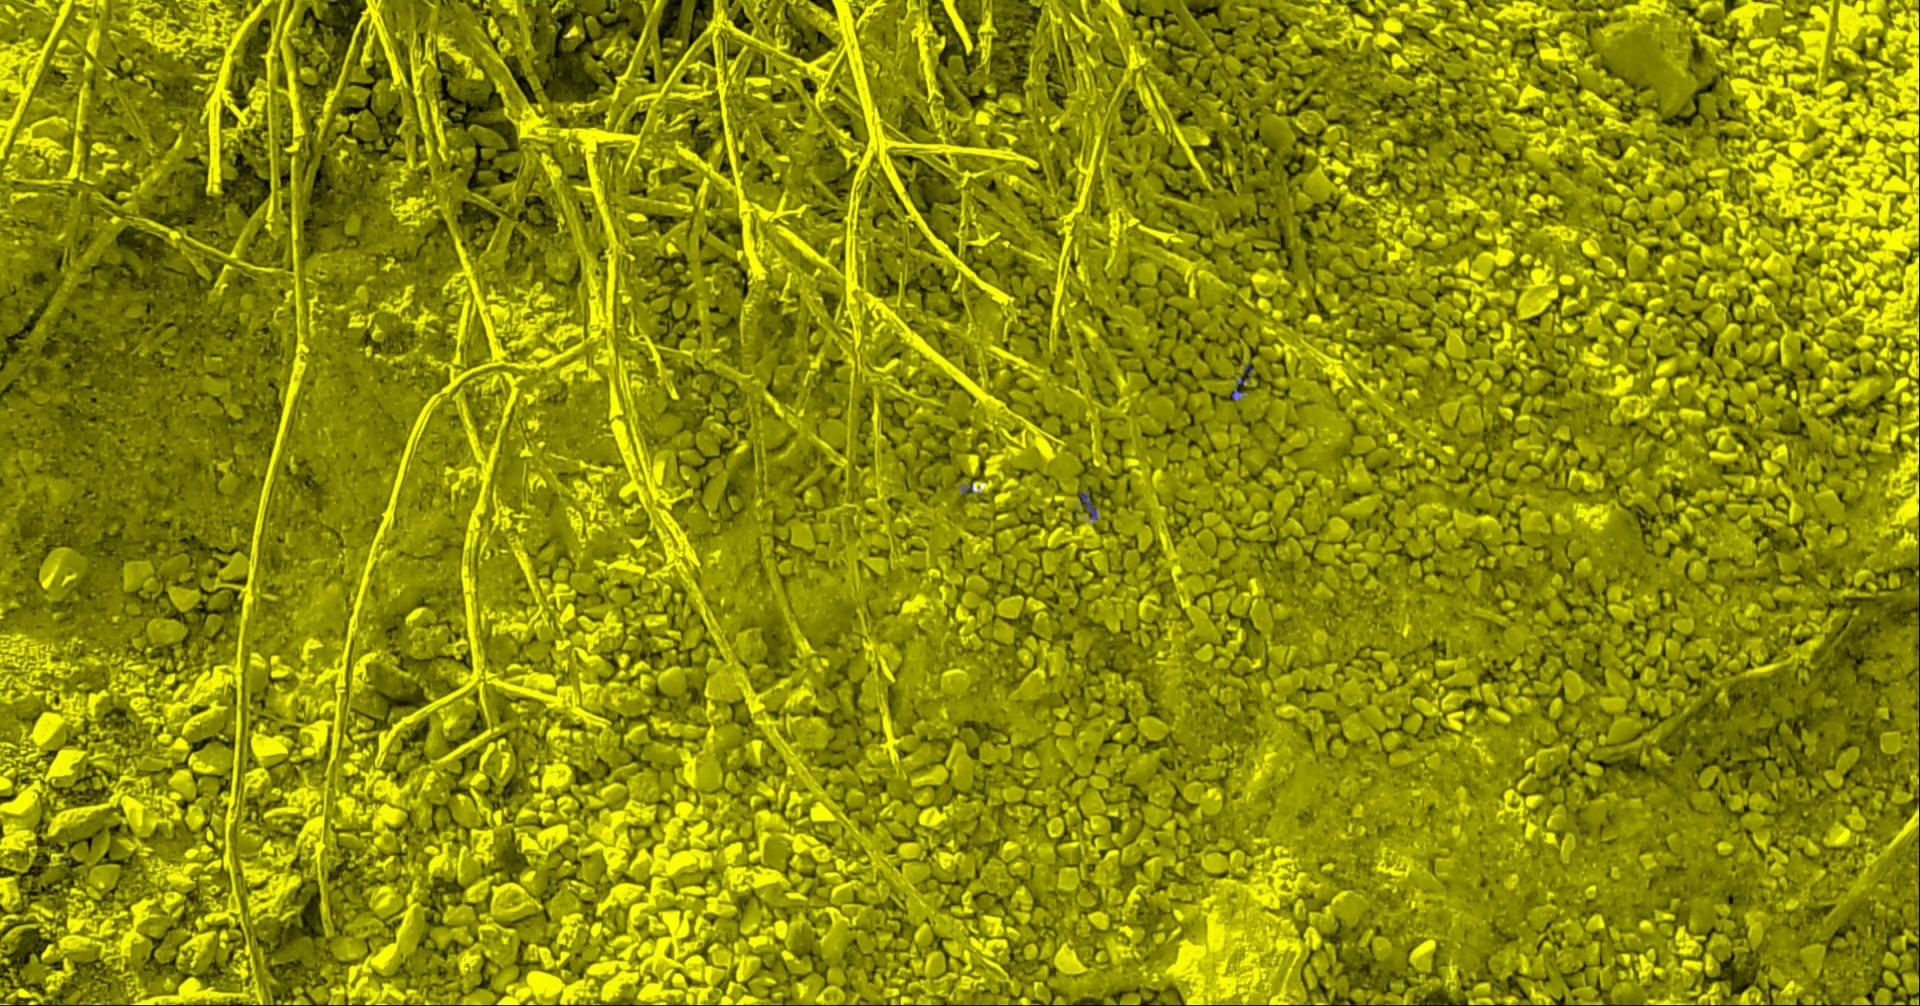ant: (1079, 492, 1097, 520)
